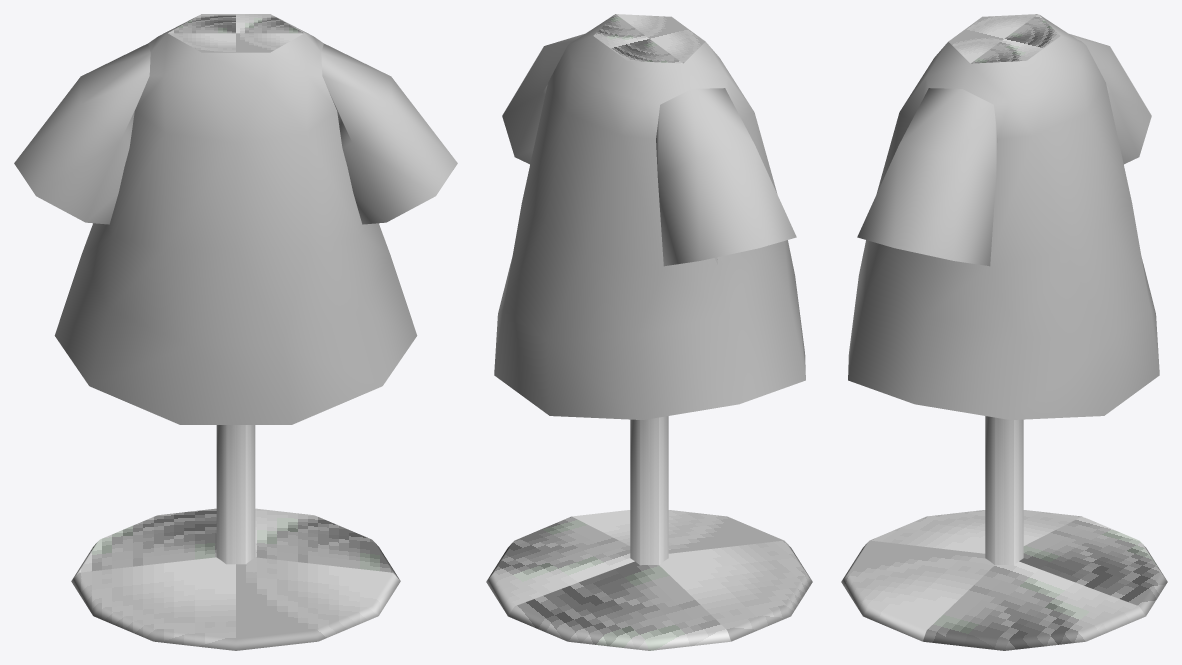
File: mq_tops_shtH_grc.dae
The picture shows the model from 3 angles, left to right: view 1: azimuth 30°, elevation 25°; view 2: azimuth 150°, elevation 25°; view 3: azimuth 270°, elevation 25°; orthographic projection.
Parts seen in each view (by area): view 1: mq_tops_shtH_grc; view 2: mq_tops_shtH_grc; view 3: mq_tops_shtH_grc.
Part boxes in pixels (bbox=[...]): mq_tops_shtH_grc: bbox=[14, 14, 457, 650]; mq_tops_shtH_grc: bbox=[486, 14, 812, 650]; mq_tops_shtH_grc: bbox=[841, 14, 1167, 650].
Size of the model in its own units: 20.75 by 31.18 by 17.
2 materials, 2 textured.
